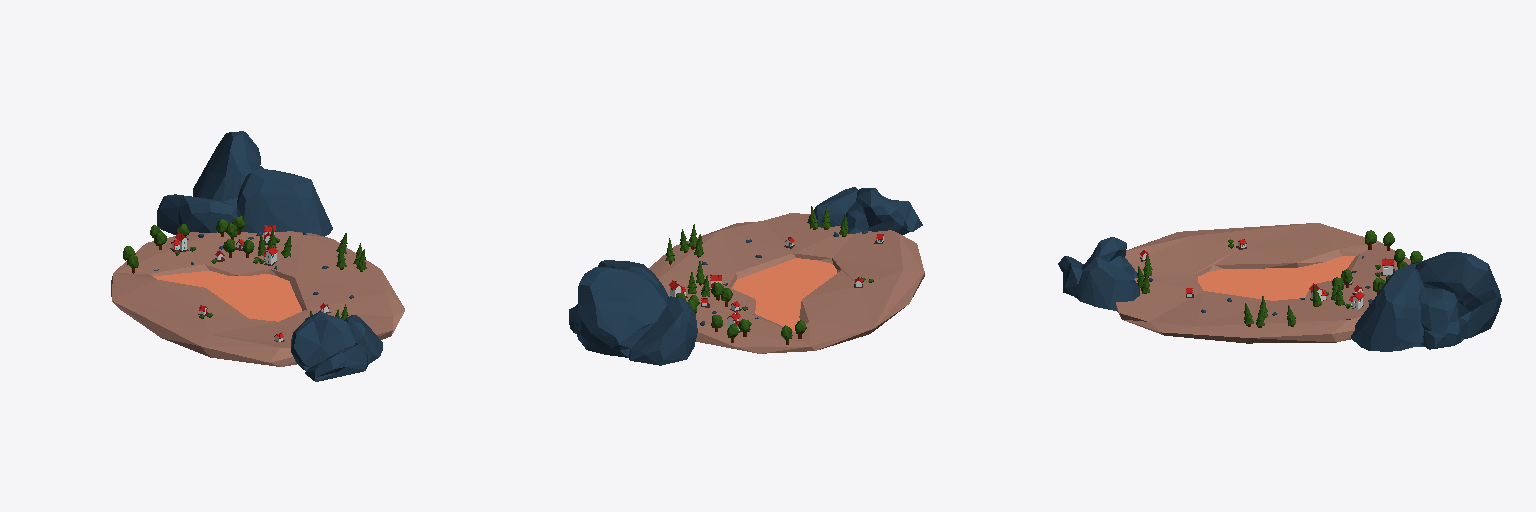
Rendered from test_sketchfab.obj.
The picture shows the model from 3 angles: view 1: azimuth 30°, elevation 25°; view 2: azimuth 150°, elevation 25°; view 3: azimuth 270°, elevation 25°; orthographic projection.
Parts seen in each view (by area): view 1: terrain_1 group2, group2 big_rock_1, group2 big_rock_2, water_1; view 2: terrain_1 group2, group2 big_rock_1, water_1, group2 big_rock_2; view 3: terrain_1 group2, group2 big_rock_1, group2 big_rock_2, water_1.
Part boxes in pixels (x1,y1,x2,y2): terrain_1 group2: (111,231,404,366); group2 big_rock_1: (157,131,332,236); group2 big_rock_2: (291,312,382,381); water_1: (153,271,301,321); terrain_1 group2: (648,213,924,353); group2 big_rock_1: (569,260,697,365); water_1: (732,258,836,331); group2 big_rock_2: (807,187,922,234); terrain_1 group2: (1116,223,1410,343); group2 big_rock_1: (1351,252,1501,351); group2 big_rock_2: (1058,237,1139,311); water_1: (1198,256,1355,300).
Size of the model in its own units: 242 by 68.83 by 372.